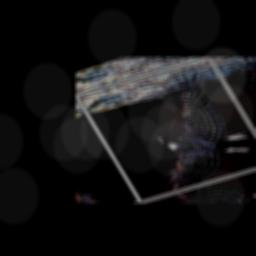Woodpecker: (111, 70, 256, 193)
